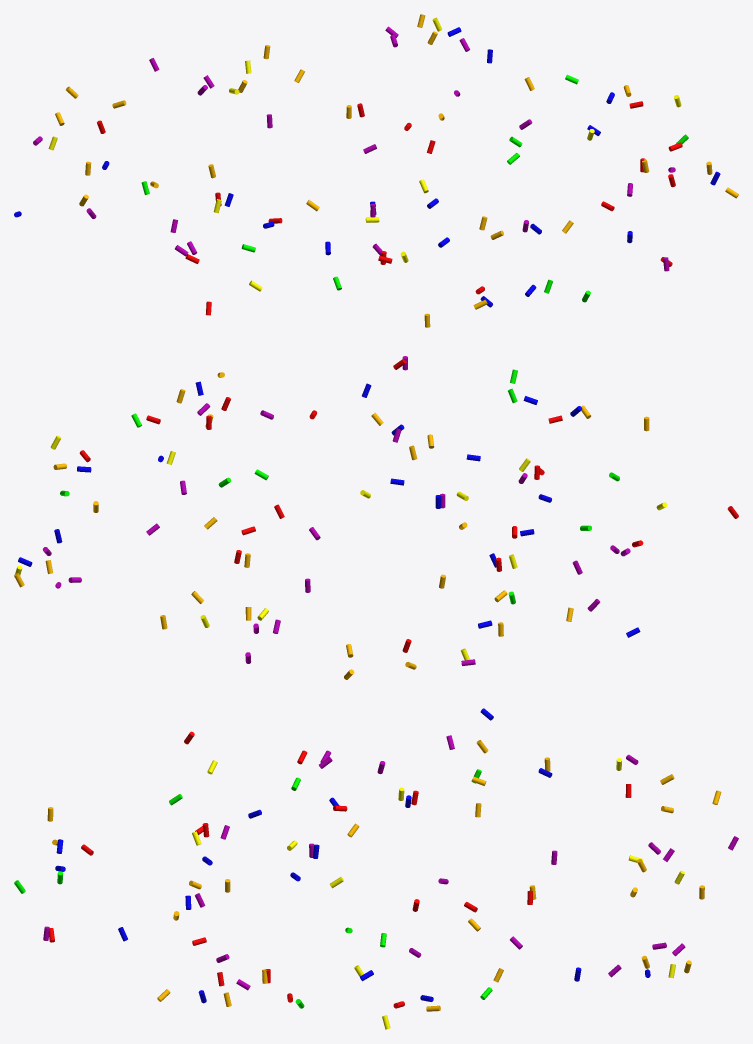
The model's file is rainbow_round1.glb.
The picture shows the model from 3 angles, top to bottom: view 1: azimuth 30°, elevation 25°; view 2: azimuth 150°, elevation 25°; view 3: azimuth 270°, elevation 25°; orthographic projection. The views are drawn at different scales.
Size of the model in its own units: 2.74 by 0.0538 by 2.68.
